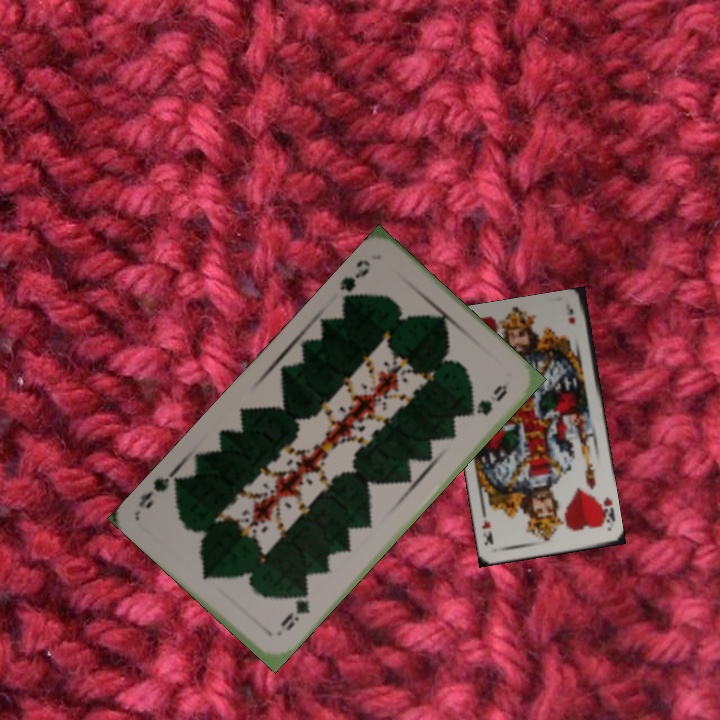G9: (335, 255, 373, 306), (276, 588, 313, 634)
HK: (594, 493, 617, 529)
